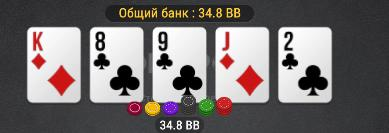2c: (280, 29, 331, 101)
8c: (91, 29, 143, 102)
9c: (154, 29, 206, 100)
Jd: (217, 29, 268, 100)
Kd: (28, 29, 80, 102)
